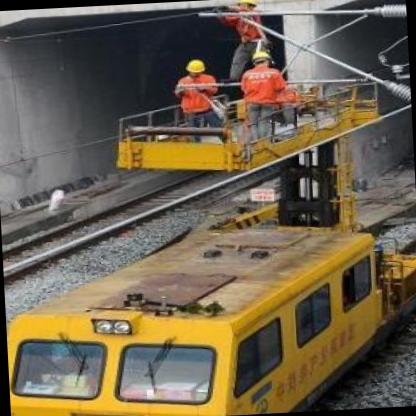helmet: (246, 46, 278, 73), (180, 53, 210, 78), (233, 0, 262, 15)
person: (236, 49, 284, 155), (170, 57, 225, 144), (222, 0, 267, 79)
